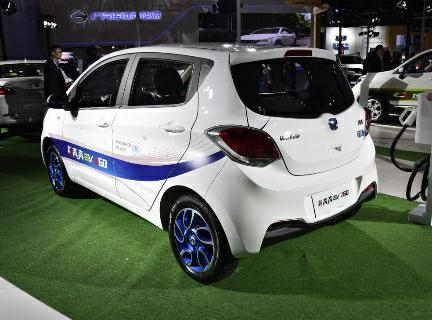长安-奔奔EV: (36, 41, 388, 287)
